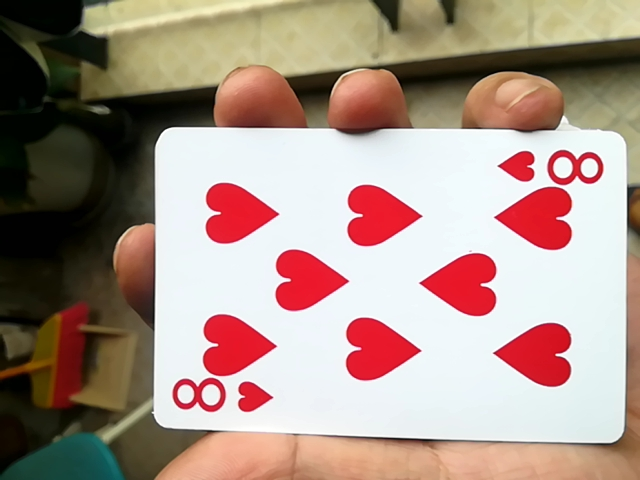hx 8: (133, 124, 612, 447)
